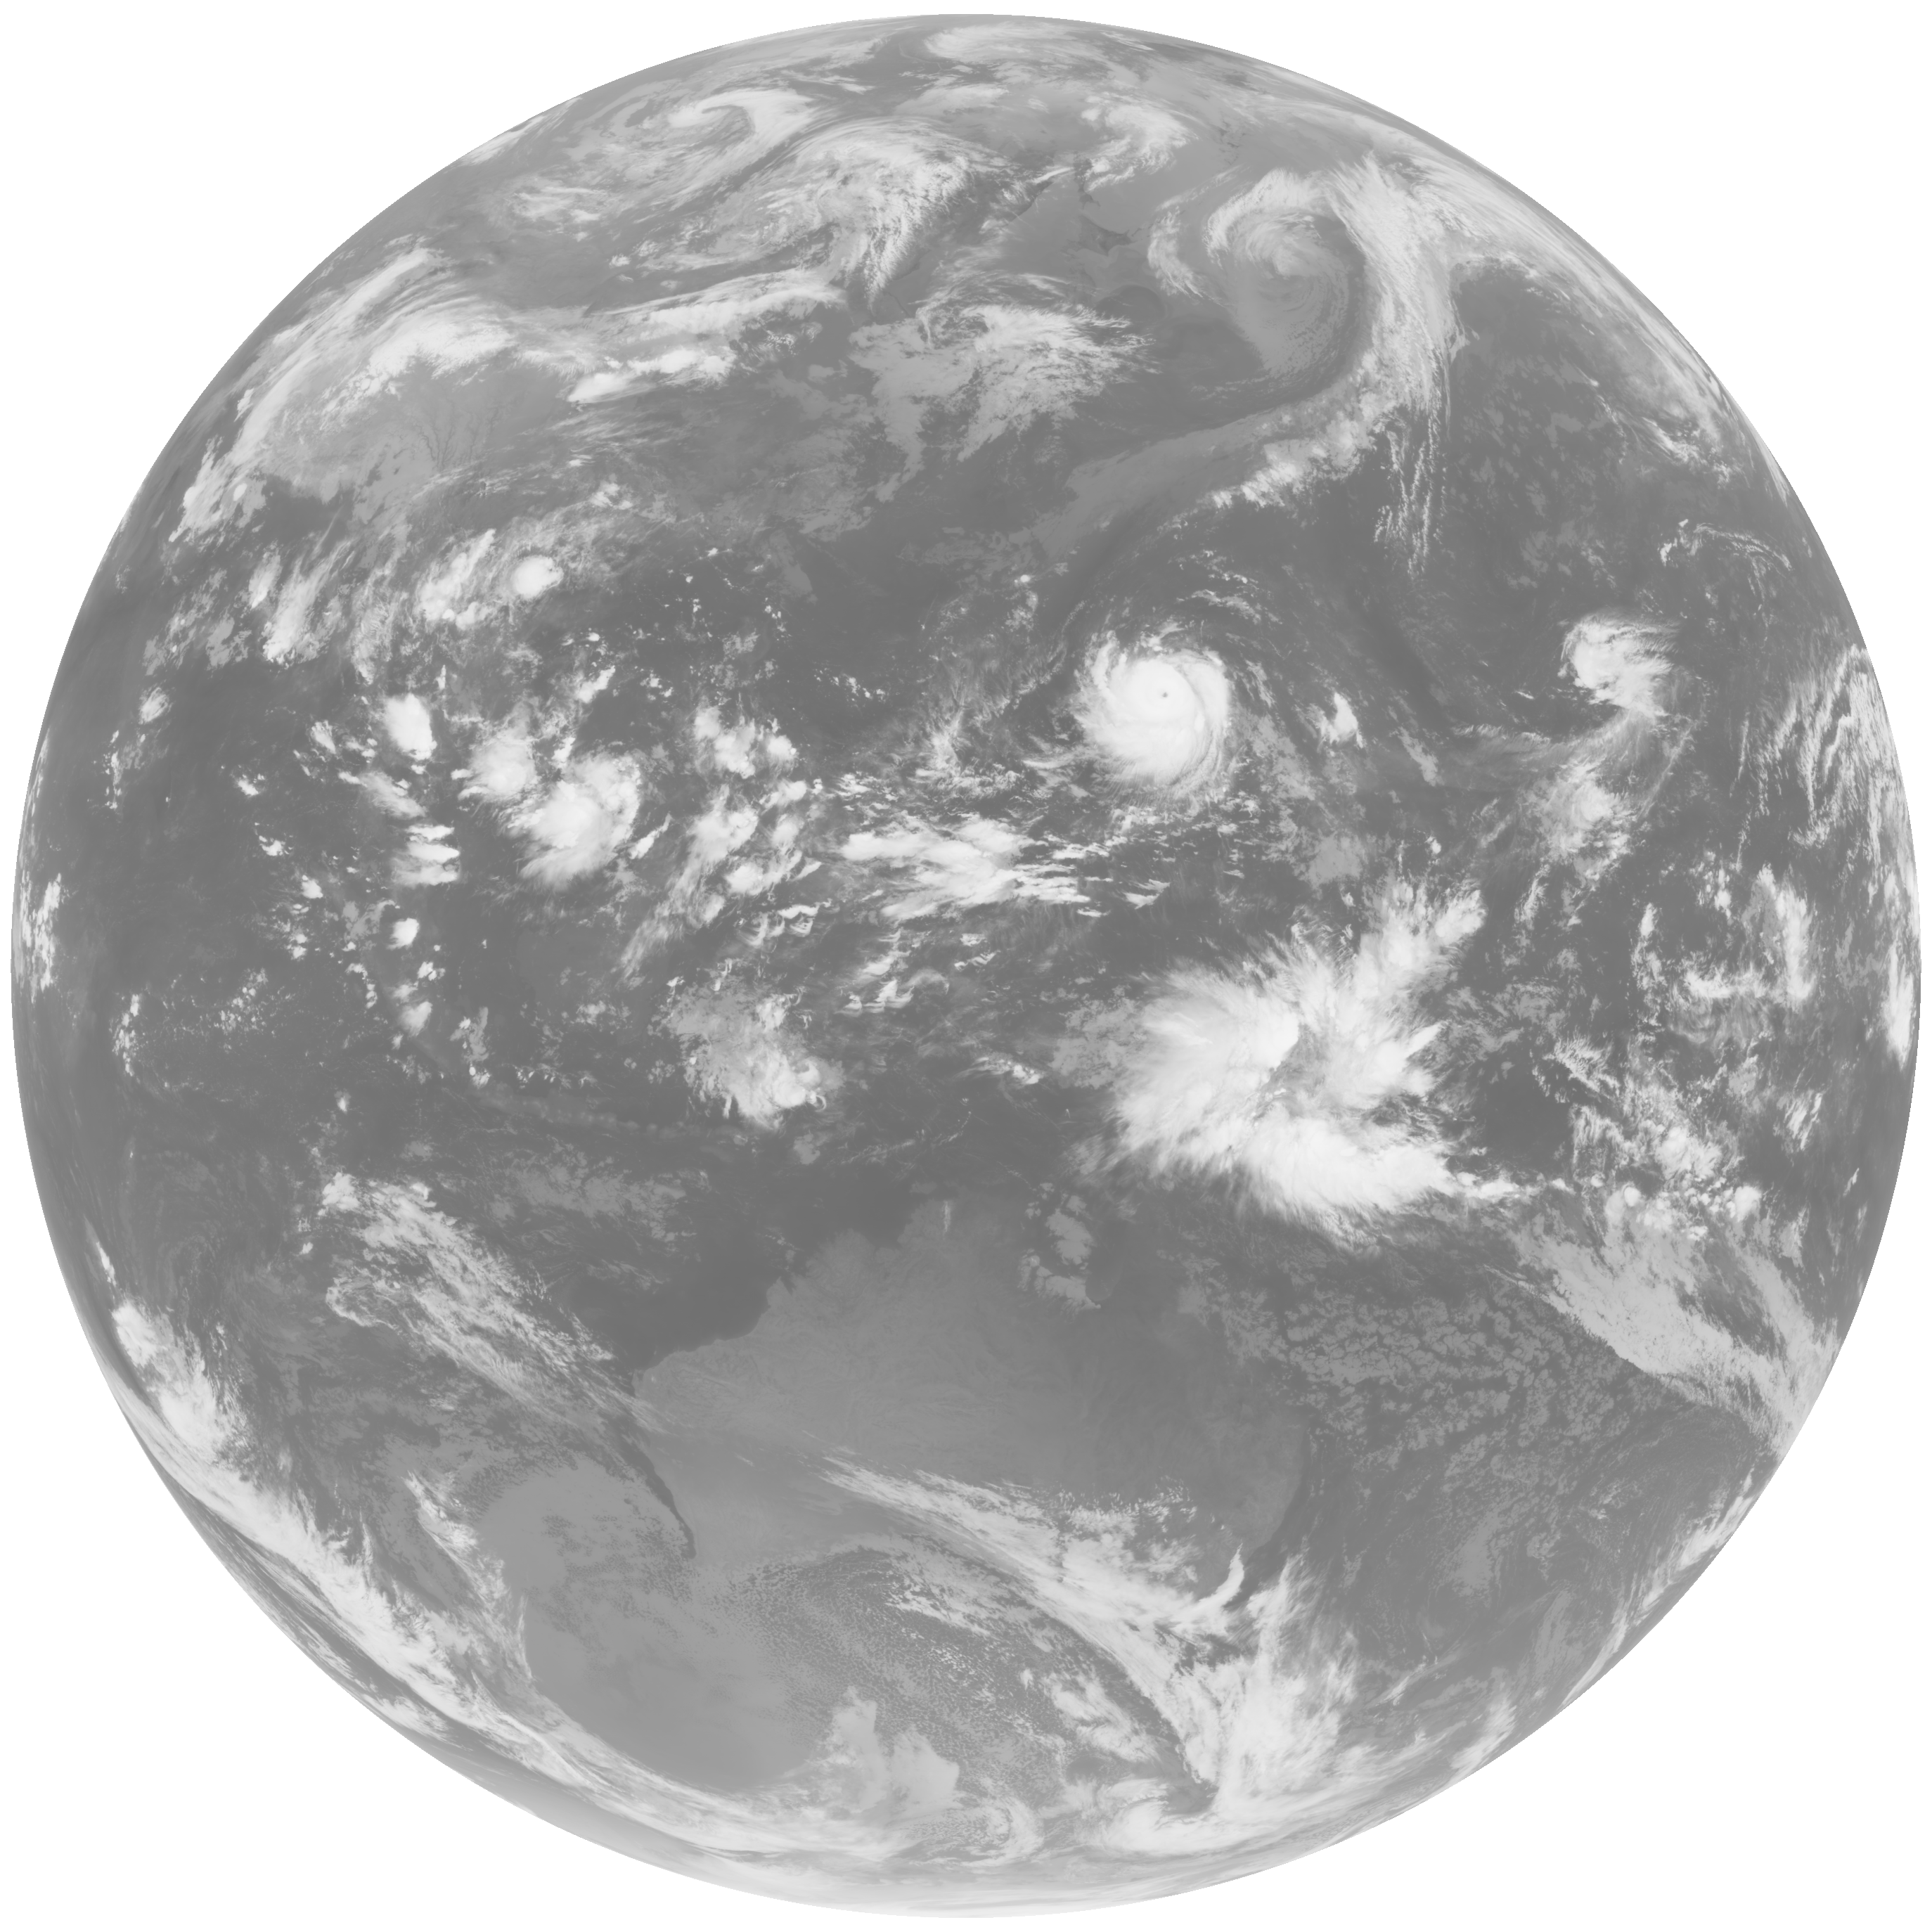typhoon: (893, 564, 1345, 885)
